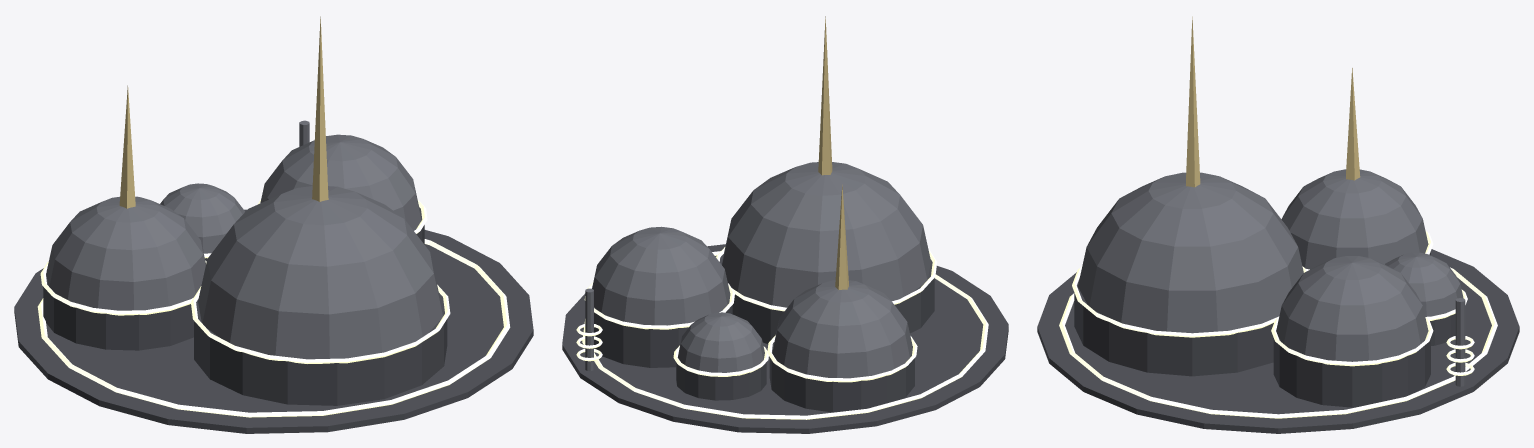
The model's file is zone_low_6_t3.glb.
3 views of the same model, side by side, from view 1: azimuth 30°, elevation 25°; view 2: azimuth 150°, elevation 25°; view 3: azimuth 270°, elevation 25° (orthographic). The views are drawn at different scales.
Parts seen in each view (by area): view 1: zone_low_6_t3, detail; view 2: zone_low_6_t3, detail; view 3: zone_low_6_t3, detail.
Part boxes in pixels (x1,y1,x2,y2): zone_low_6_t3: [14, 16, 533, 433]; detail: [37, 120, 510, 417]; zone_low_6_t3: [562, 16, 1008, 433]; detail: [576, 251, 988, 419]; zone_low_6_t3: [1037, 16, 1519, 433]; detail: [1059, 267, 1497, 418].
Bounding box in the file's own units: 19.6 × 14.27 × 19.6.
